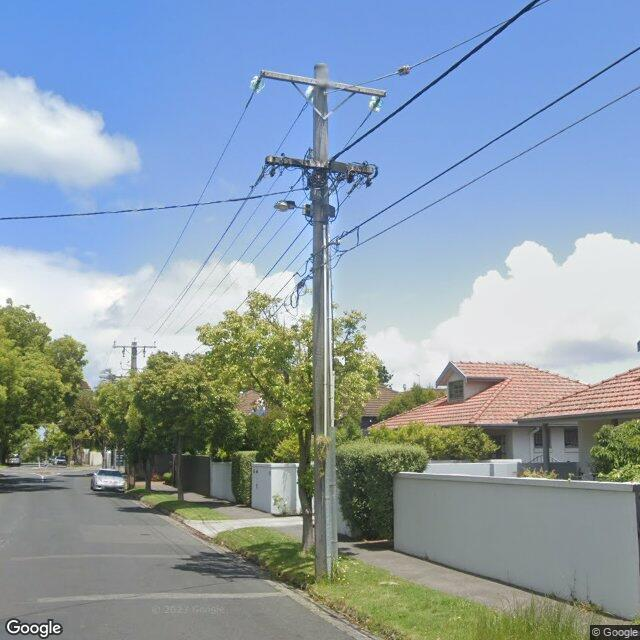HV-transmission: (245, 76, 383, 127), (114, 336, 156, 358)
crossarm: (259, 69, 386, 97), (266, 156, 374, 175), (112, 346, 157, 348)
streetlight: (274, 200, 310, 213)
timber-pole: (313, 63, 337, 580), (131, 342, 137, 370)
